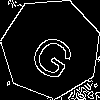G: (26, 23, 84, 84)
